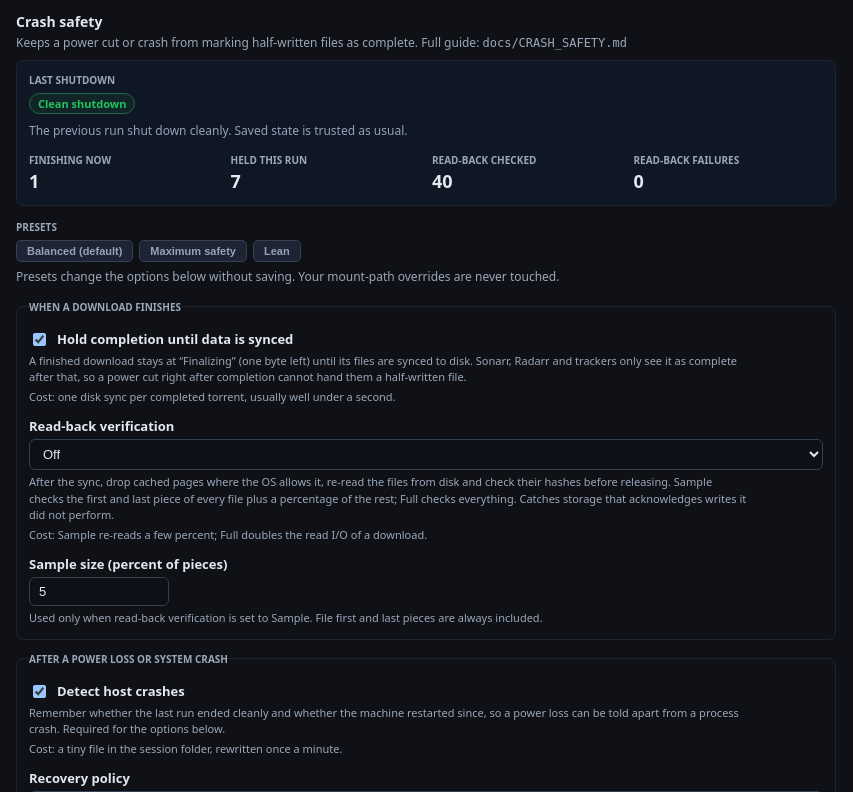
Test: CrashSafetyPanel › applies a preset to the draft without saving it
Expected: the element named "Crash-safety presets" is shown, [16, 240, 301, 262]
Click the button "Maximum safety" at (193, 251), box [139, 240, 247, 262]
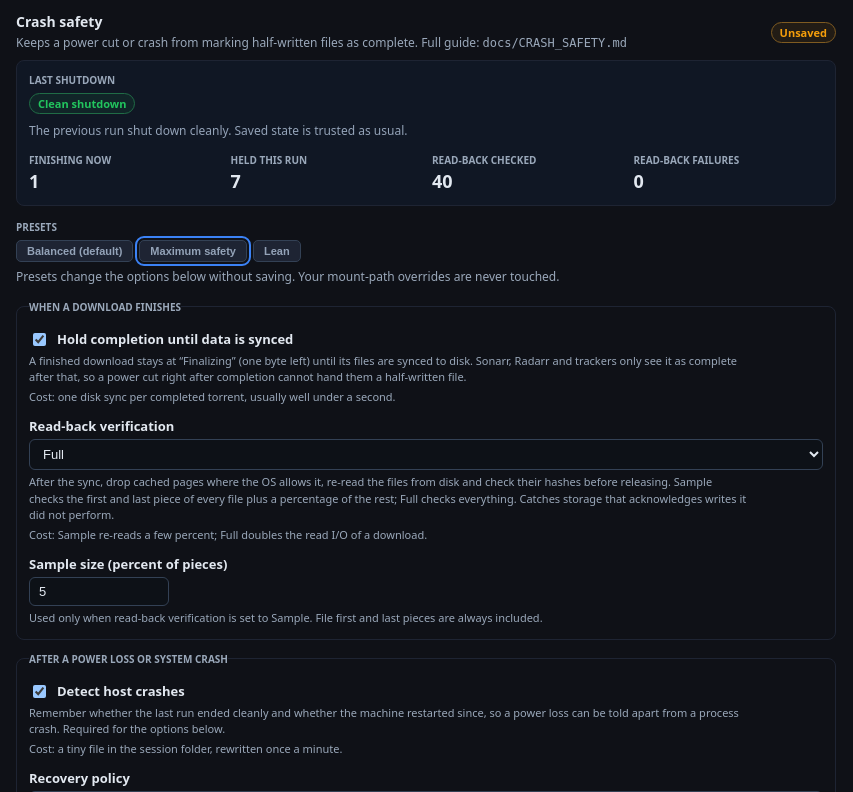
Now the dropdown labelled "Read-back verification" shows "Full", box [29, 439, 823, 470]
Now the text "Unsaved" is shown, box [771, 22, 836, 42]
